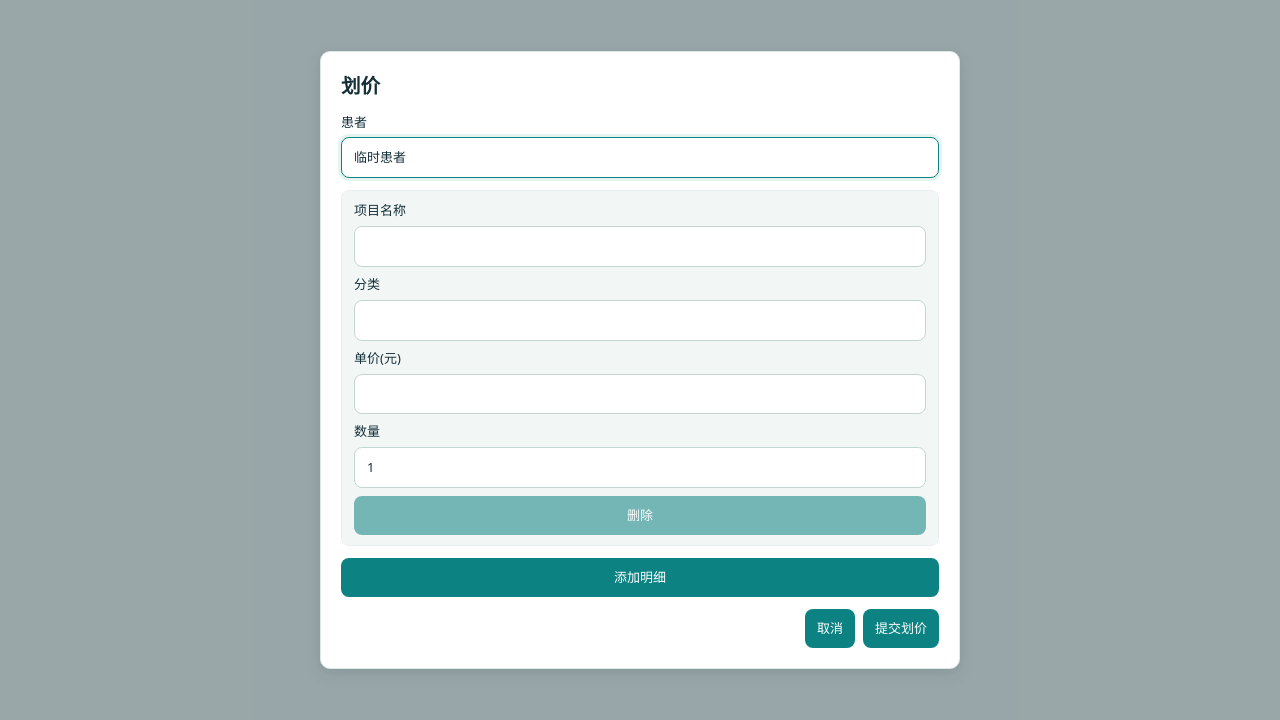
Test: ChargeDialog › requires a patient before submitting a charge
Click the button "提交划价" at x=901, y=628, box [863,609,939,648]
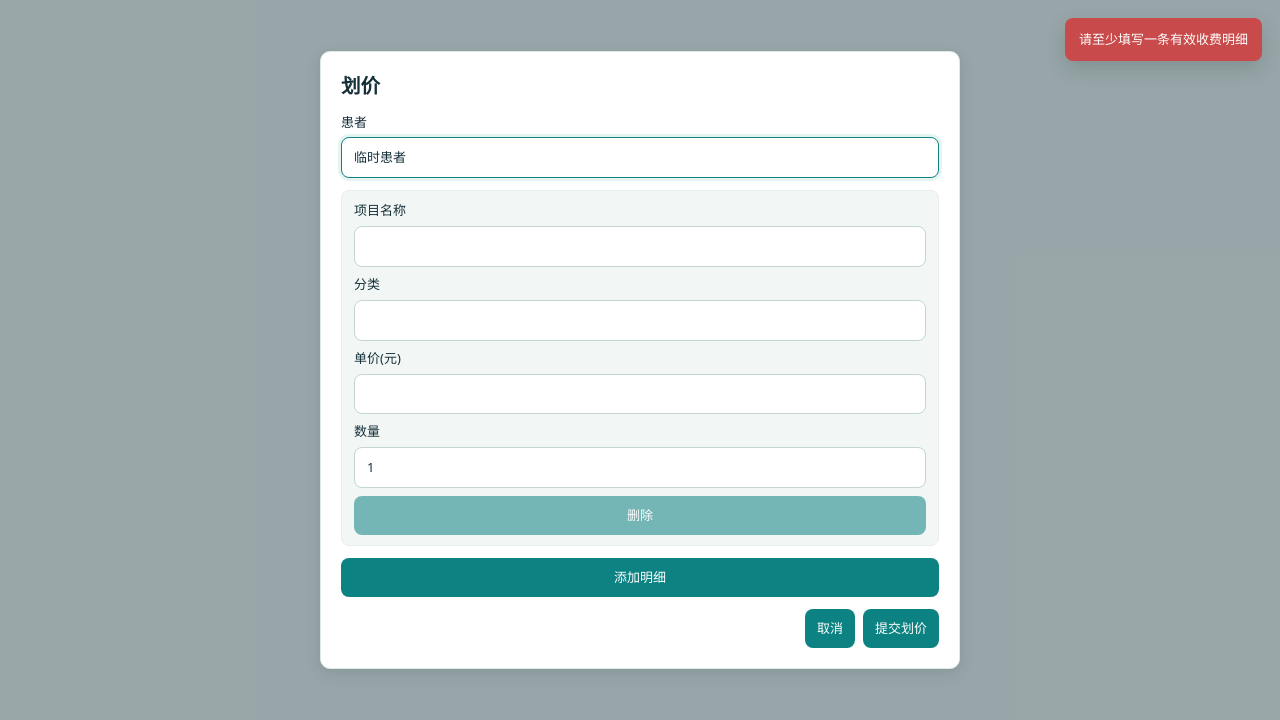
Expected: the text "请至少填写一条有效收费明细" is shown, [1065,18,1262,61]
